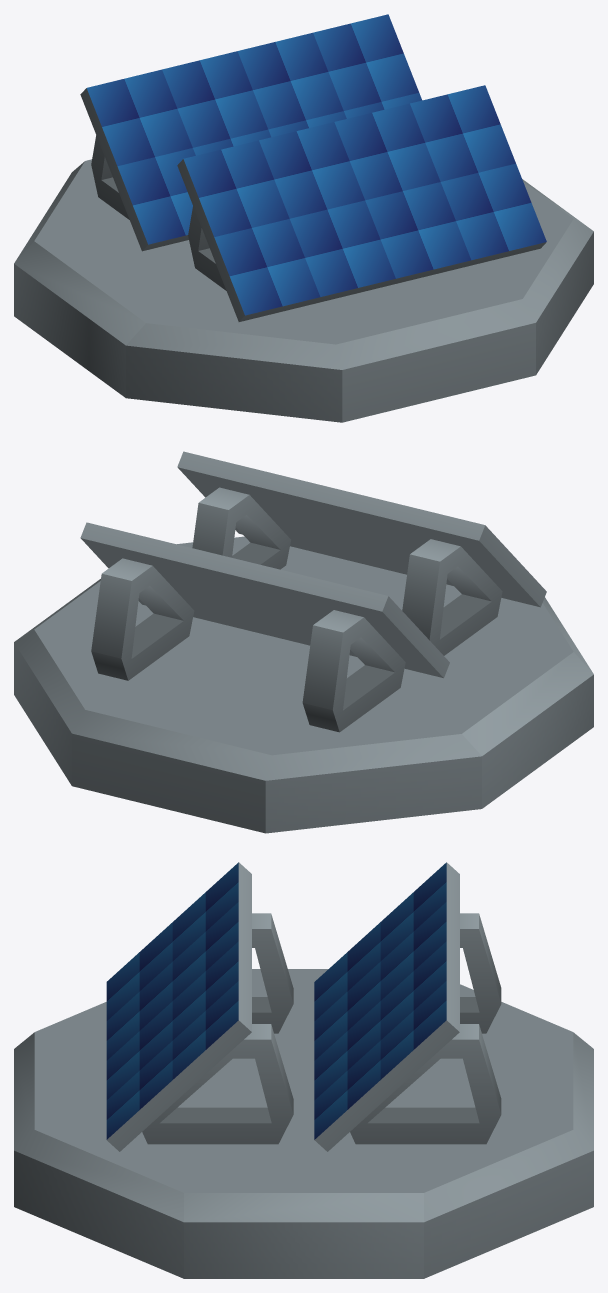
Rendered from roofmodule_solarpanels.obj.
3 views of the same model, one above another, from view 1: azimuth 30°, elevation 25°; view 2: azimuth 150°, elevation 25°; view 3: azimuth 270°, elevation 25° (orthographic). The views are drawn at different scales.
Bounding box in the file's own units: 1.4 × 0.5709 × 1.4.
Materials: 1 (1 with a texture image).
